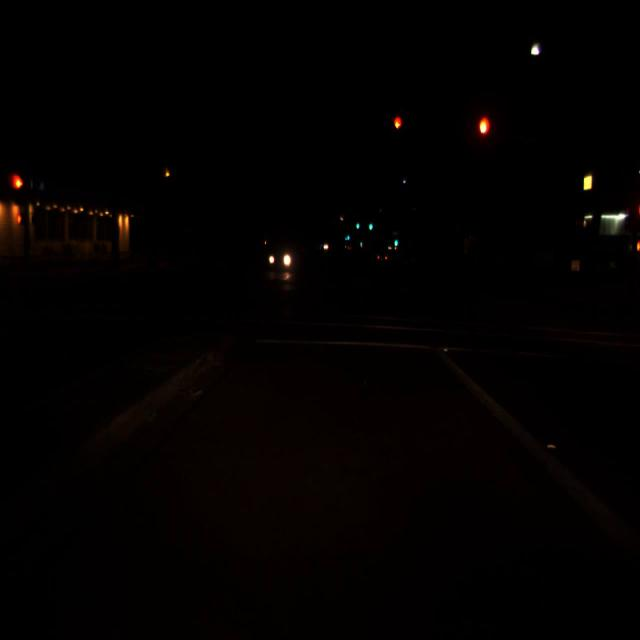stop: (479, 118, 489, 133)
stop left: (14, 176, 22, 188), (395, 118, 401, 127)
stop left traffic light: (12, 172, 24, 205), (393, 115, 402, 140)
stop traffic light: (477, 114, 491, 155)
